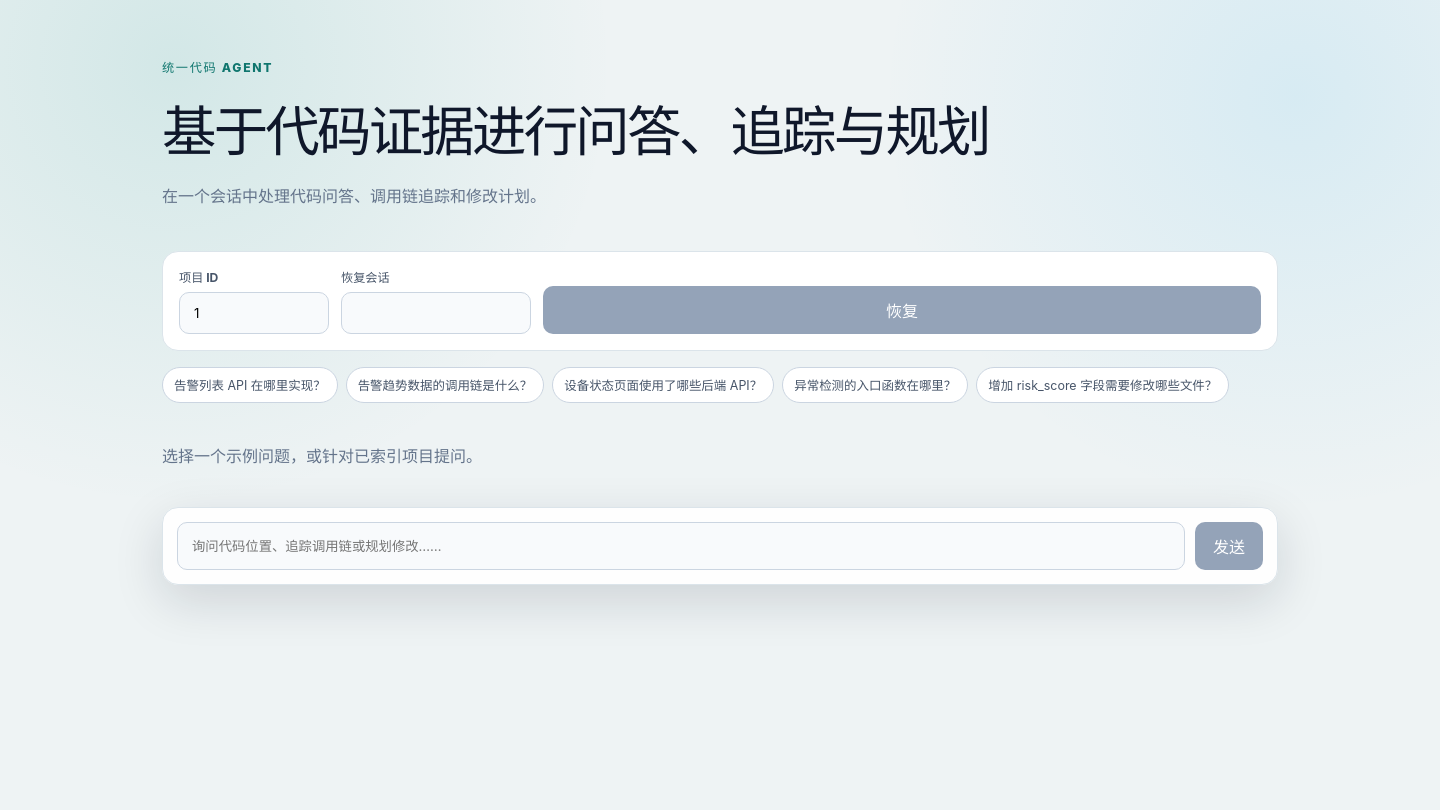
Scenario: AgentChat › shows API errors and empty evidence
The width and height of the screenshot is (1440, 810).
Type "Question" into the field with test id "question" at (681, 546), box [177, 522, 1185, 570]
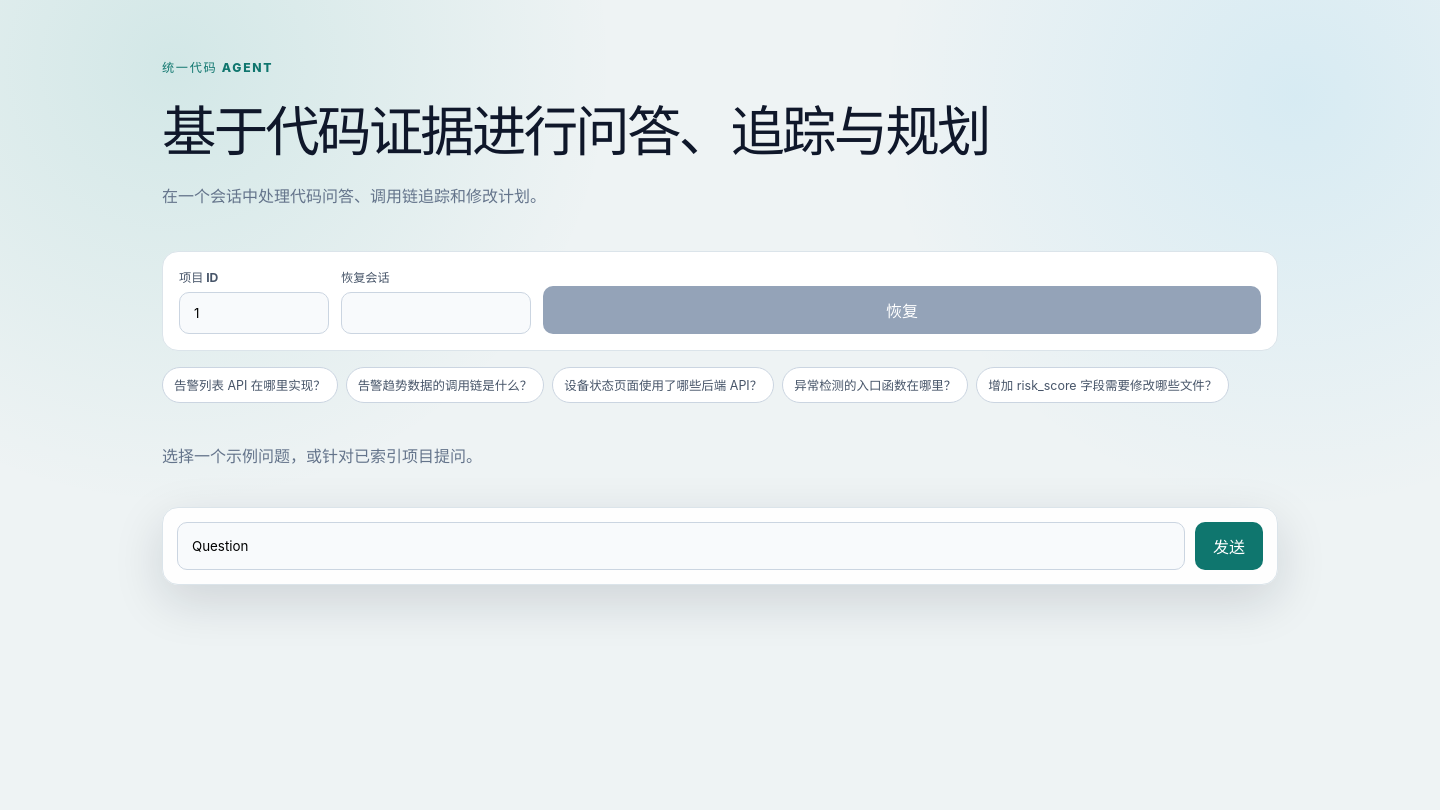
Submit the form with test id "chat-form", box [162, 507, 1278, 585]
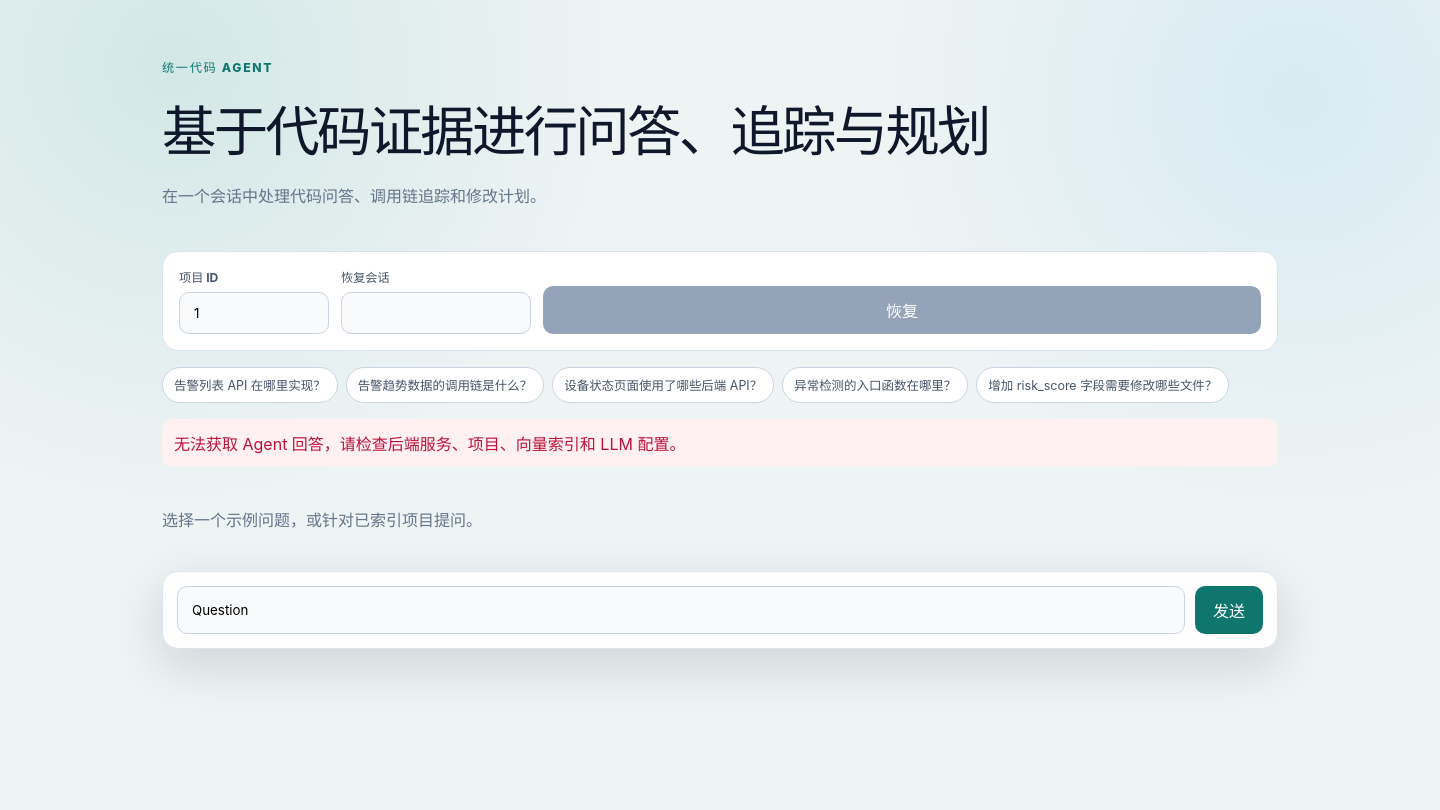
Result: the text with test id "error" shows "无法获取 Agent 回答" at [174, 434, 685, 454]
Replace the text in the field with test id "question" with "Missing" at (681, 610), box [177, 586, 1185, 634]
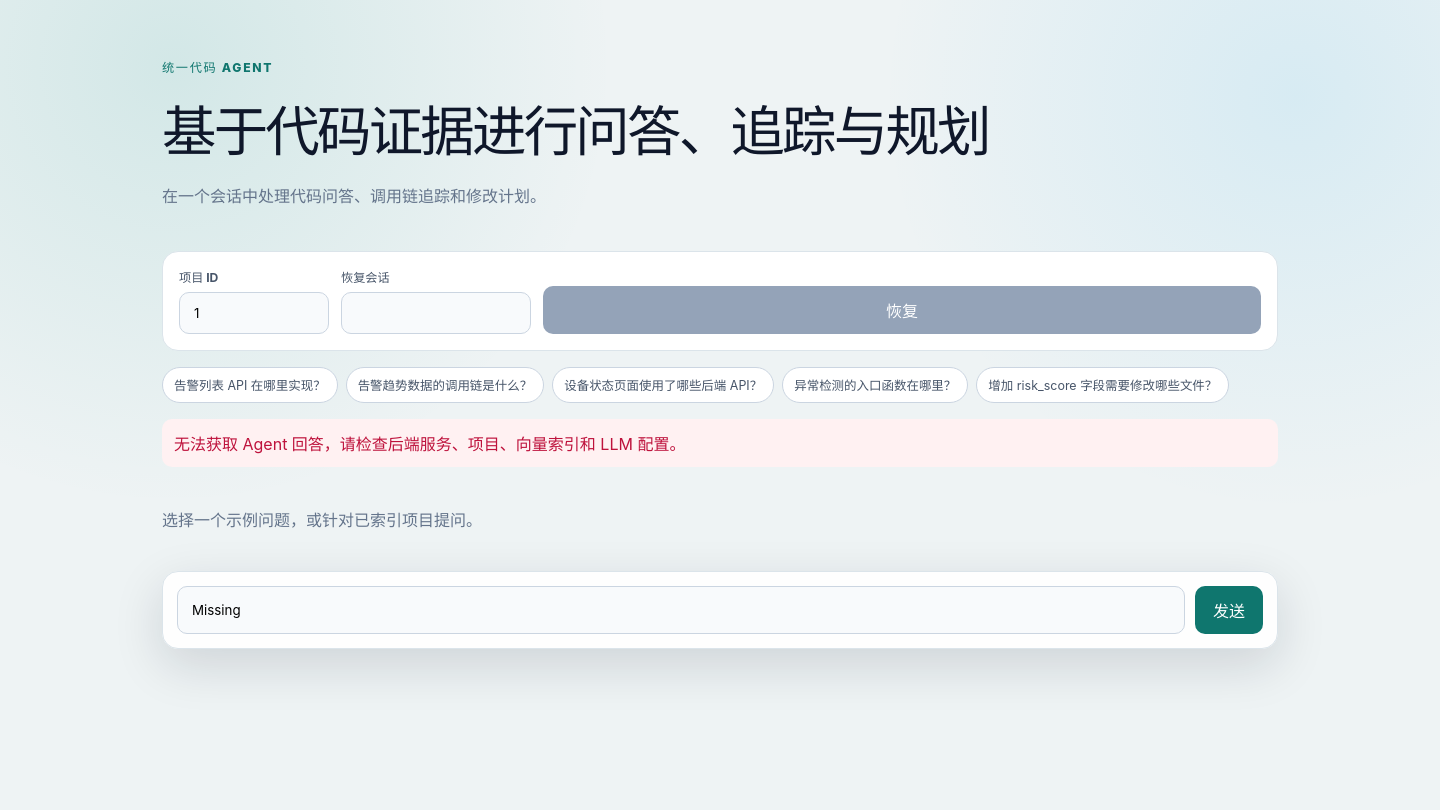
Submit the form with test id "chat-form", box [162, 571, 1278, 649]
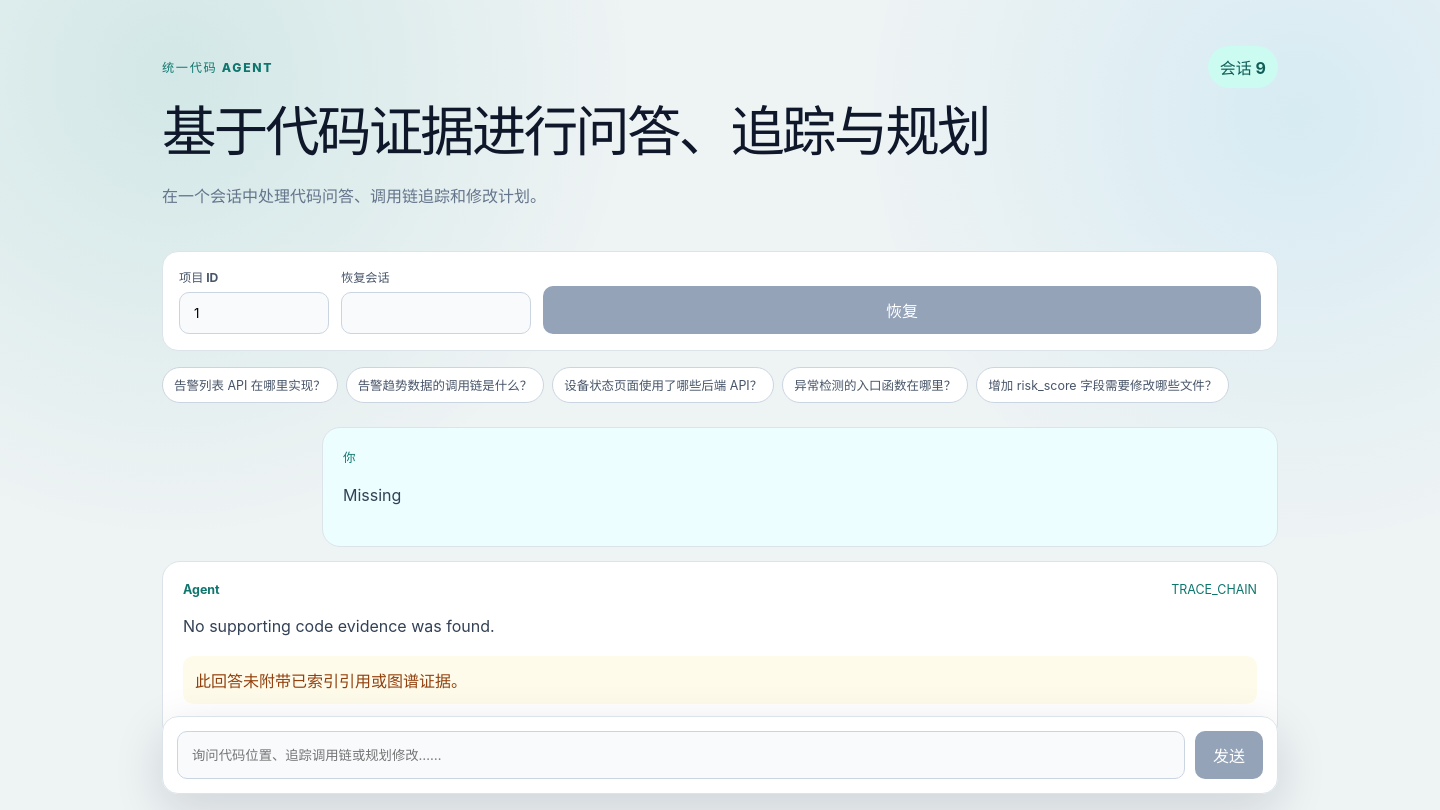
Result: the text "此回答未附带已索引引用或图谱证据。" is shown at [183, 656, 1257, 704]
